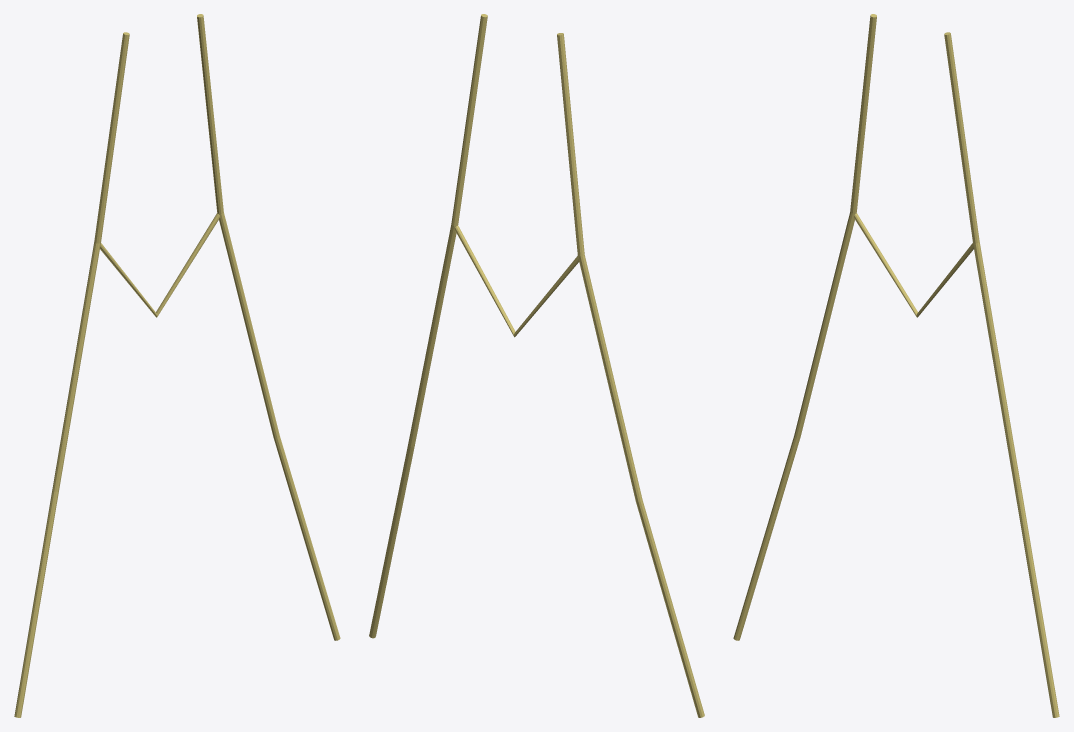
Rendered from nerves.glb.
3 renders of one model, left to right at view 1: azimuth 30°, elevation 25°; view 2: azimuth 150°, elevation 25°; view 3: azimuth 330°, elevation 25°, orthographic. The views are drawn at different scales.
Visible parts, largest first — view 1: nerves; view 2: nerves; view 3: nerves.
Part boxes in pixels (<box>): nerves: <box>14,14,340,717</box>; nerves: <box>369,14,704,717</box>; nerves: <box>733,14,1059,717</box>.
Bounding box in the file's own units: 0.1323 × 0.2505 × 0.017.
